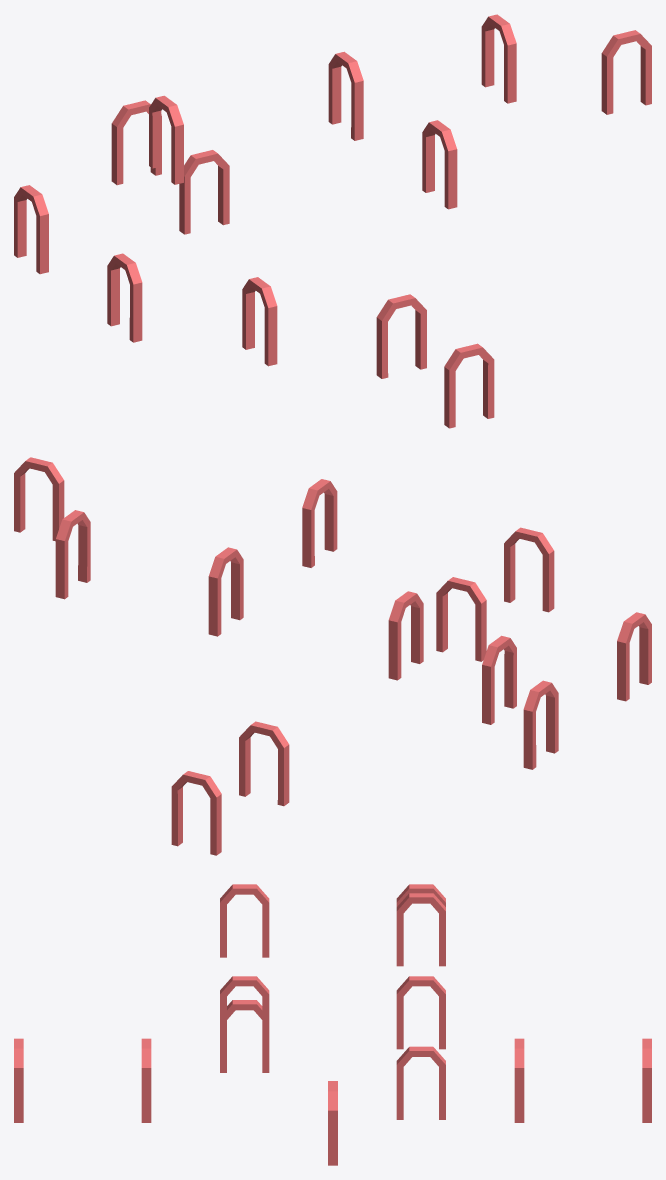
File: building_doorarch_lp.FBX
3 renders of one model, top to bottom at view 1: azimuth 30°, elevation 25°; view 2: azimuth 150°, elevation 25°; view 3: azimuth 270°, elevation 25°, orthographic. The views are drawn at different scales.
Visible parts, largest first — view 1: level_building_door_arch; view 2: level_building_door_arch; view 3: level_building_door_arch.
Part boxes in pixels (x1,y1,x2,y2): level_building_door_arch: (14, 14, 651, 428); level_building_door_arch: (14, 457, 651, 855); level_building_door_arch: (14, 884, 651, 1165).
Bounding box in the file's own units: 1260 × 1280 × 389.
